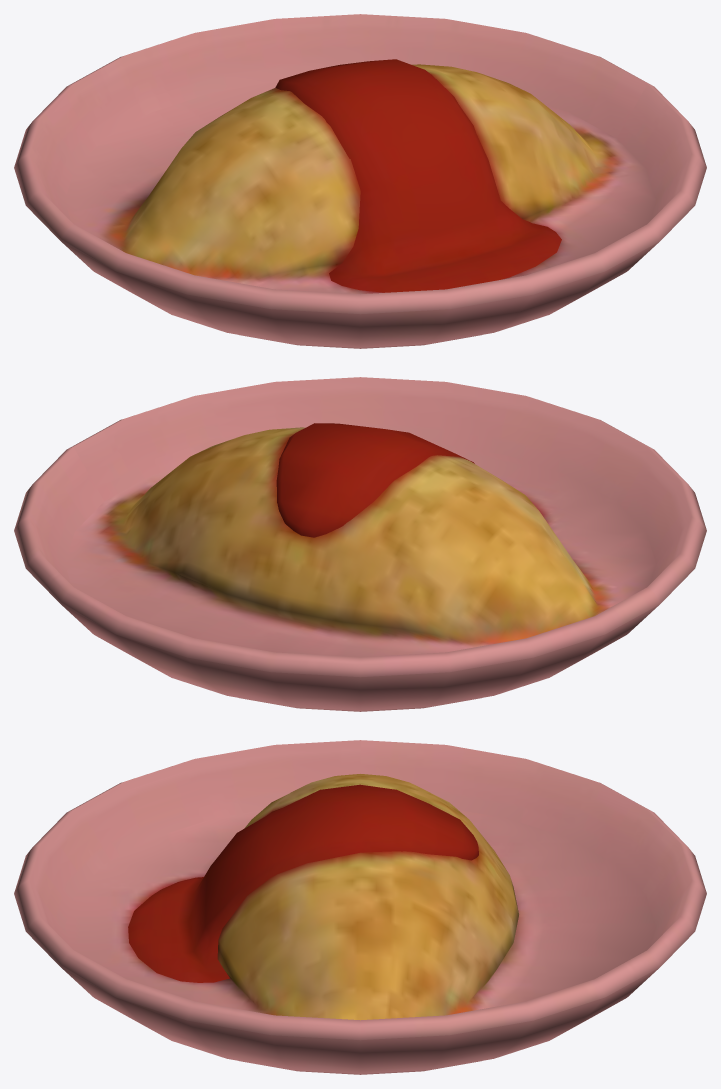
The picture shows the model from 3 angles, top to bottom: view 1: azimuth 30°, elevation 25°; view 2: azimuth 150°, elevation 25°; view 3: azimuth 270°, elevation 25°; orthographic projection.
Size of the model in its own units: 7.11 by 1.9 by 7.11.
1 material, 1 textured.
